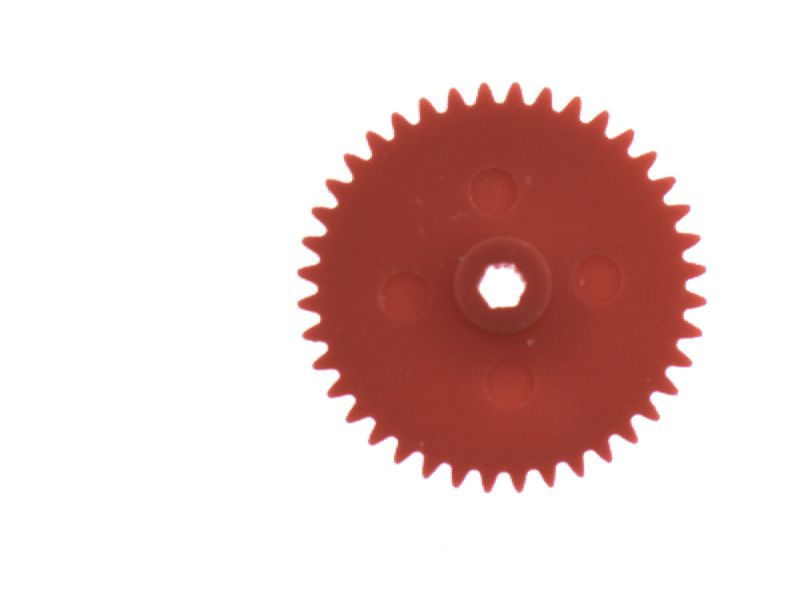good_product: (279, 64, 719, 503)
